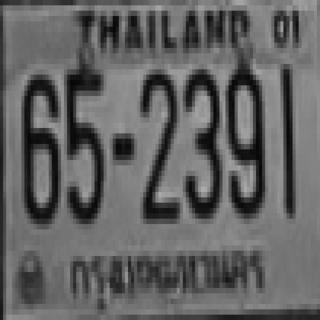N01: (279, 61, 294, 216)
N02: (140, 67, 177, 221)
N03: (183, 67, 220, 216)
N05: (66, 59, 102, 224)
N06: (21, 69, 58, 219)
N09: (224, 59, 264, 213)
P04: (65, 242, 273, 307)
